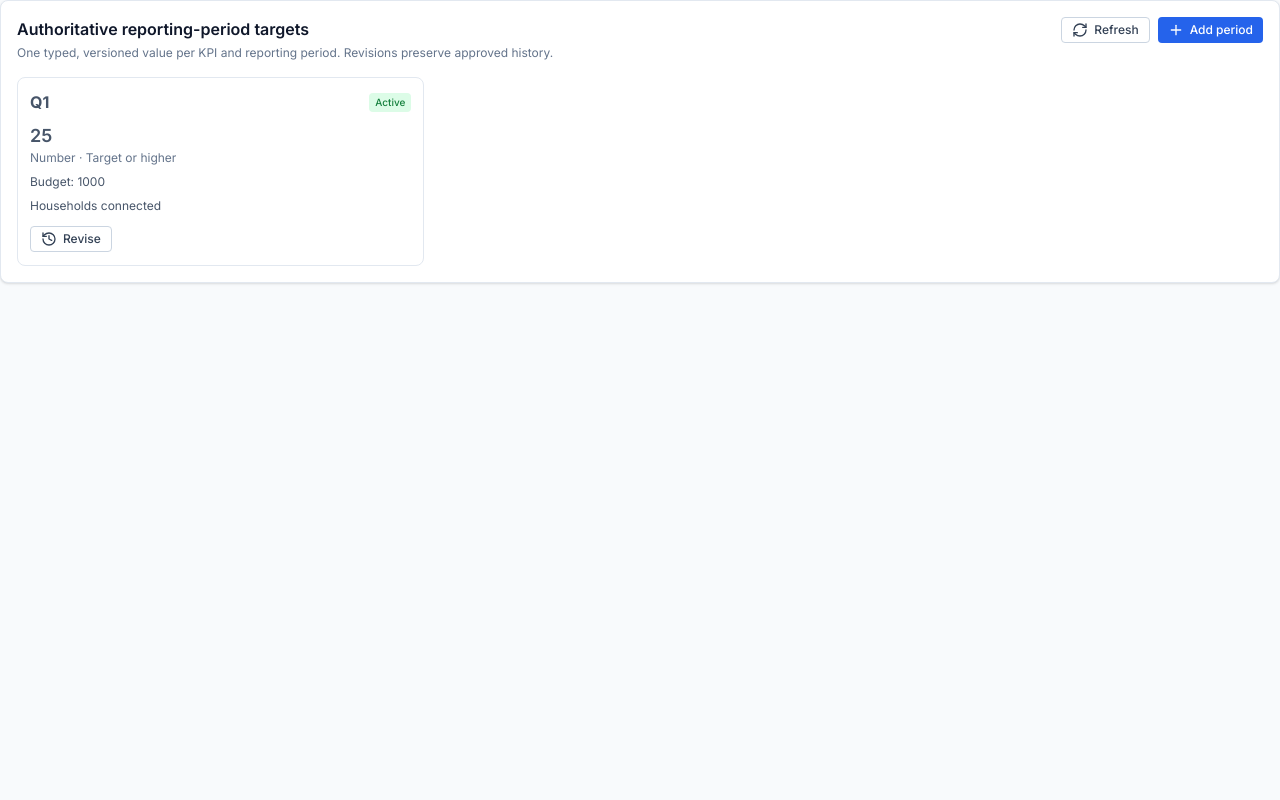
PerformancePeriodTargetEditor › loads canonical values and opens governed revision history
expect the text "25" is shown: met, box [30,125,52,146]
expect the text "Households connected" is shown: met, box [30,198,161,213]
Click the button "Revise" at point(71, 239), box [30,226,112,252]
(page scrolled)
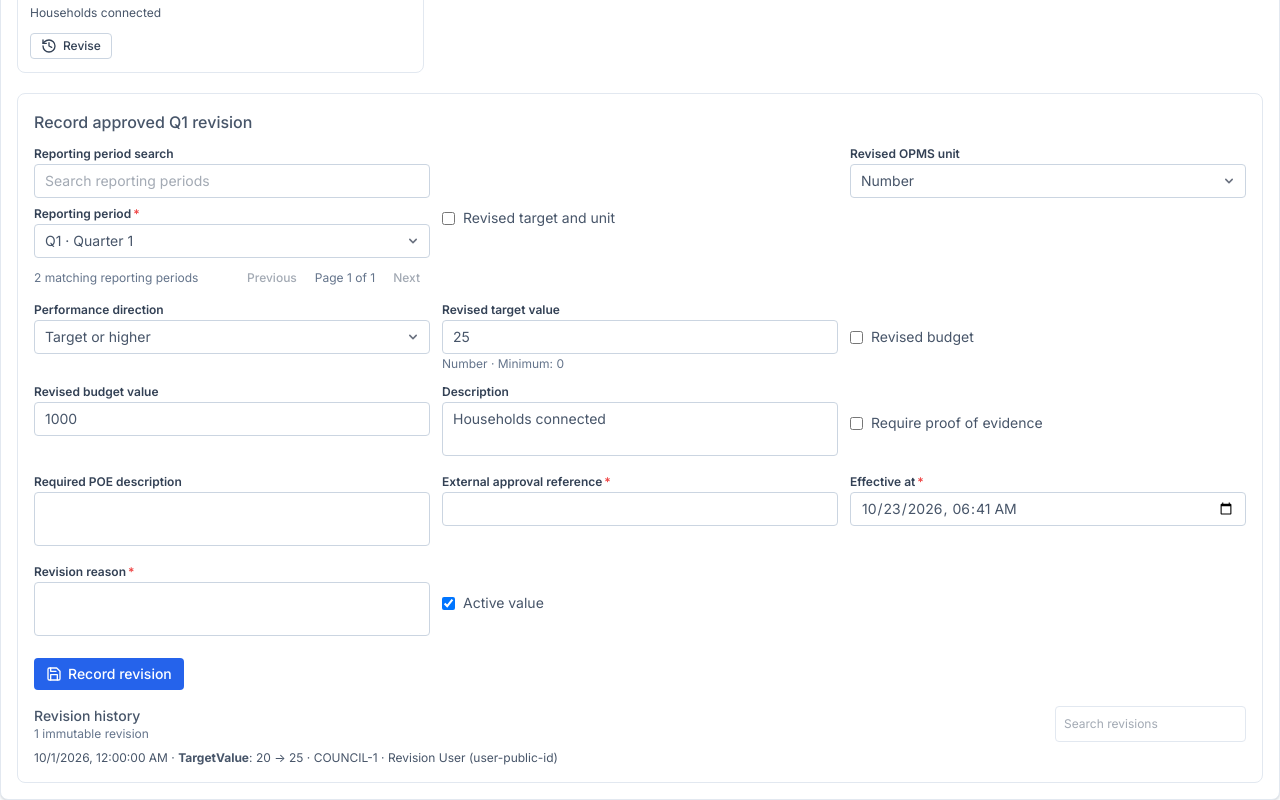
expect the heading "Record approved Q1 revision" is shown: met, box [34,112,252,132]
expect the field labelled "External approval reference*" is shown: met, box [442,492,838,526]
expect the list item "COUNCIL-1" is shown: met, box [314,750,378,765]
